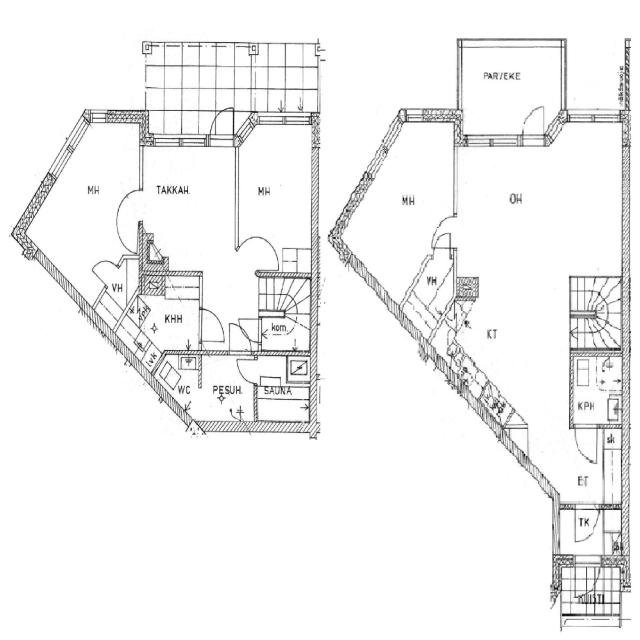door: (572, 420, 602, 466), (248, 232, 280, 274), (571, 502, 601, 546), (197, 304, 227, 346), (114, 186, 144, 225), (226, 319, 256, 356), (520, 101, 547, 142), (208, 105, 235, 143), (430, 216, 456, 251), (235, 353, 259, 385)
window: (41, 110, 81, 176), (567, 106, 621, 128), (466, 130, 522, 151), (259, 109, 311, 131), (156, 130, 206, 151), (404, 106, 426, 127)
zone: (455, 138, 629, 264), (139, 140, 239, 266), (235, 122, 316, 261), (381, 118, 456, 248), (138, 287, 202, 356), (256, 354, 314, 428), (569, 350, 624, 427), (201, 356, 257, 427), (409, 247, 456, 328), (160, 353, 201, 426), (260, 310, 312, 354)
